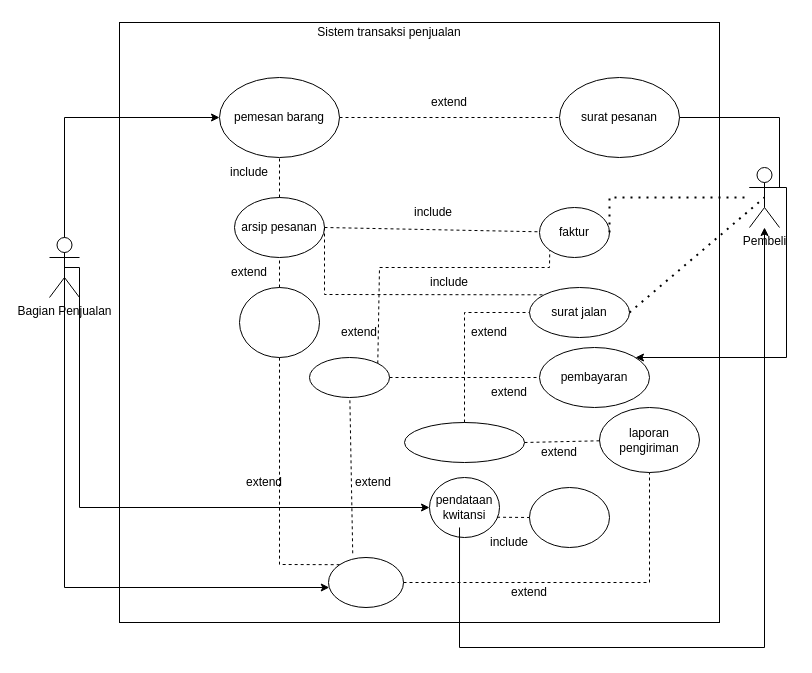
Image size: 812x673. Some labels were removed from this diagram. Here are the shapes that lost their labels. From the top down, the centre of each, then its label:
At (279,322): "laporan barang".
At (349,377): "arsip faktur".
At (464,442): "arsip surat jalan".
At (569,517): "arsip kwitansi".
At (366,582): "laporan penjualan".
